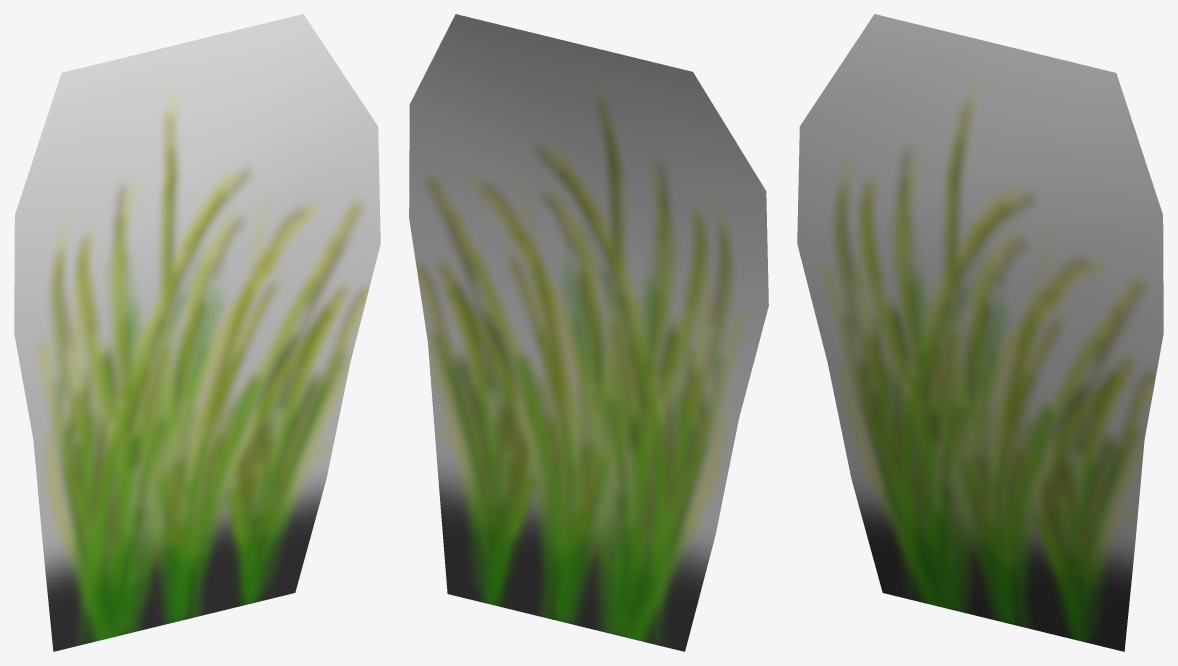
Rendered from Grass.fbx.
The picture shows the model from 3 angles, left to right: view 1: azimuth 30°, elevation 25°; view 2: azimuth 150°, elevation 25°; view 3: azimuth 330°, elevation 25°; orthographic projection.
Visible parts, largest first — view 1: pPlane2; view 2: pPlane2; view 3: pPlane2.
Boxes of the visible parts, x1,y1,x2,y2 form: pPlane2: [14, 14, 380, 651]; pPlane2: [409, 14, 768, 651]; pPlane2: [797, 14, 1163, 651].
Size of the model in its own units: 1.52 by 2.31 by 0.1658.
